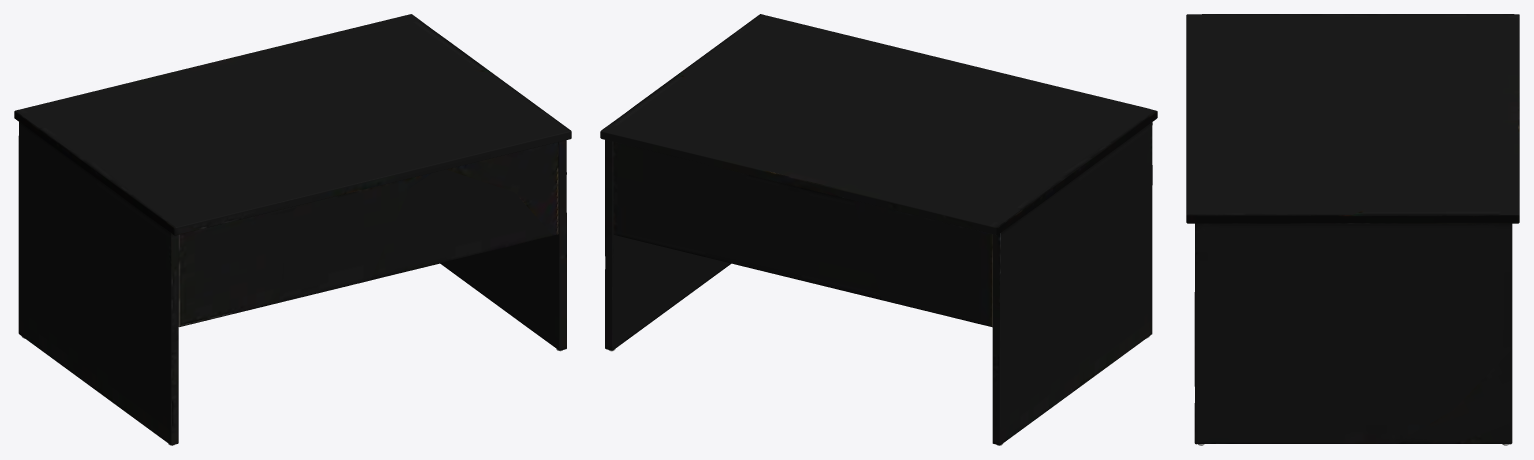
3 views of the same model, side by side, from view 1: azimuth 30°, elevation 25°; view 2: azimuth 150°, elevation 25°; view 3: azimuth 270°, elevation 25° (orthographic). The views are drawn at different scales.
Parts seen in each view (by area): view 1: ASY_ART_40534152_S01_NV01; view 2: ASY_ART_40534152_S01_NV01; view 3: ASY_ART_40534152_S01_NV01.
Boxes of the visible parts, x1=… form: ASY_ART_40534152_S01_NV01: x1=14, y1=14, x2=571, y2=445; ASY_ART_40534152_S01_NV01: x1=600, y1=14, x2=1157, y2=445; ASY_ART_40534152_S01_NV01: x1=1186, y1=14, x2=1519, y2=445.
Bounding box in the file's own units: 0.9021 × 0.4839 × 0.6302.
Materials: 1 (1 with a texture image).
